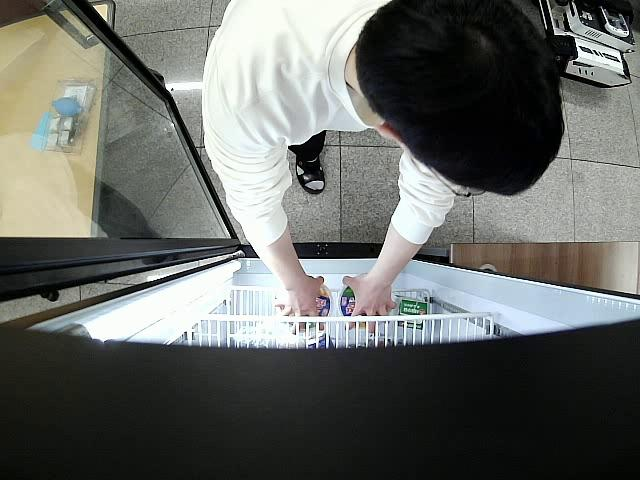00_hand: (342, 275, 397, 334), (275, 275, 327, 337)
09_yukGaeJang: (278, 283, 333, 331), (337, 287, 381, 329)
